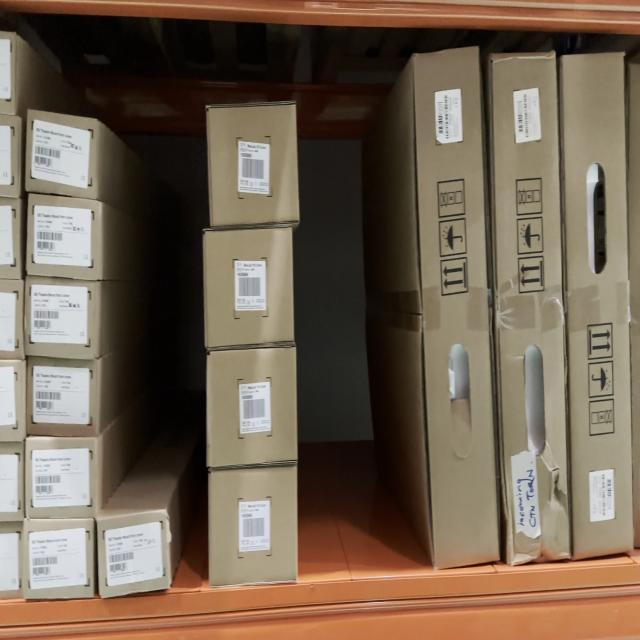box: (413, 47, 503, 569), (491, 50, 572, 567), (561, 55, 633, 561), (206, 230, 293, 348), (210, 468, 297, 586), (211, 104, 296, 224), (209, 353, 297, 462), (28, 202, 101, 277), (25, 521, 93, 597), (28, 440, 96, 516), (100, 515, 167, 591), (27, 282, 97, 354), (27, 120, 98, 189), (29, 363, 96, 435)
